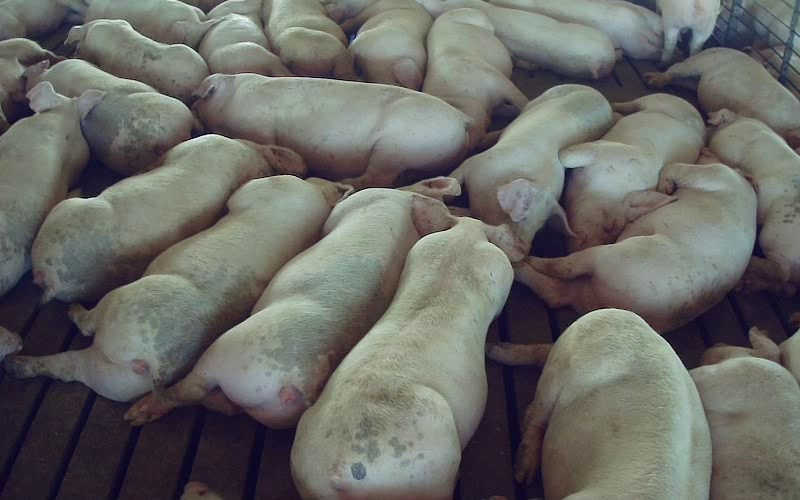pig: (125, 177, 460, 427), (7, 175, 340, 401), (291, 195, 523, 499), (32, 135, 305, 301), (515, 148, 759, 331), (487, 309, 711, 499), (193, 74, 469, 188), (452, 84, 612, 254), (559, 93, 704, 251), (0, 82, 103, 295), (26, 59, 193, 175), (690, 327, 799, 499), (709, 109, 799, 294), (644, 47, 799, 148), (418, 0, 615, 78), (423, 8, 527, 149), (65, 19, 208, 103), (490, 0, 663, 59), (341, 0, 432, 89), (262, 0, 355, 79), (198, 0, 290, 76), (85, 0, 214, 48)
